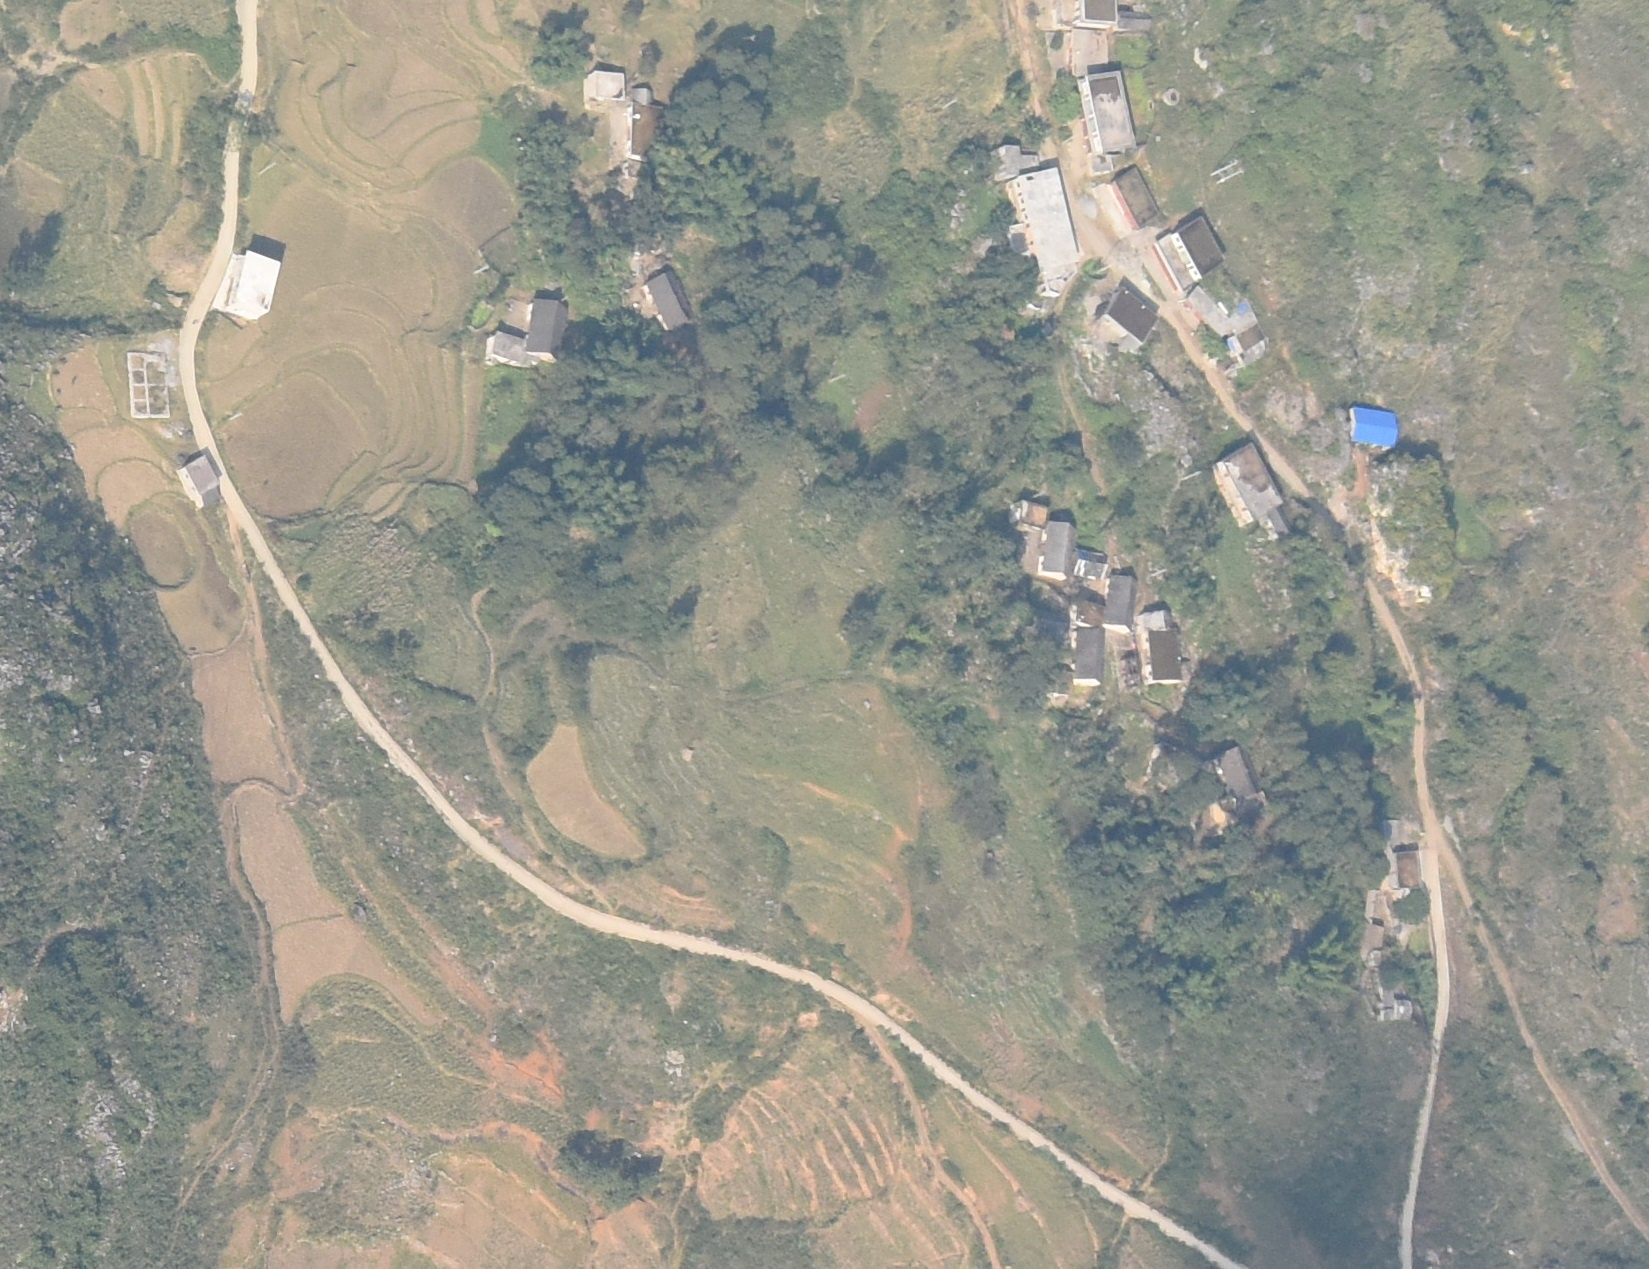building: (1002, 147, 1080, 266), (1212, 444, 1296, 539), (1190, 287, 1272, 365), (486, 296, 569, 370), (1157, 216, 1228, 290), (1082, 72, 1139, 157), (212, 249, 281, 319), (1214, 742, 1268, 808), (642, 268, 700, 328), (626, 83, 670, 160), (1099, 289, 1160, 344), (1140, 612, 1185, 686), (1070, 596, 1105, 685), (1113, 165, 1161, 229), (1383, 818, 1423, 889), (175, 455, 222, 513), (1039, 519, 1078, 585), (1368, 966, 1414, 1020), (1105, 576, 1138, 634), (581, 67, 626, 100), (1364, 890, 1387, 954), (1010, 498, 1051, 531), (1073, 547, 1107, 582), (1076, 2, 1121, 26)
prefabricated-house: (1348, 402, 1400, 450)
well: (1163, 88, 1180, 107)
